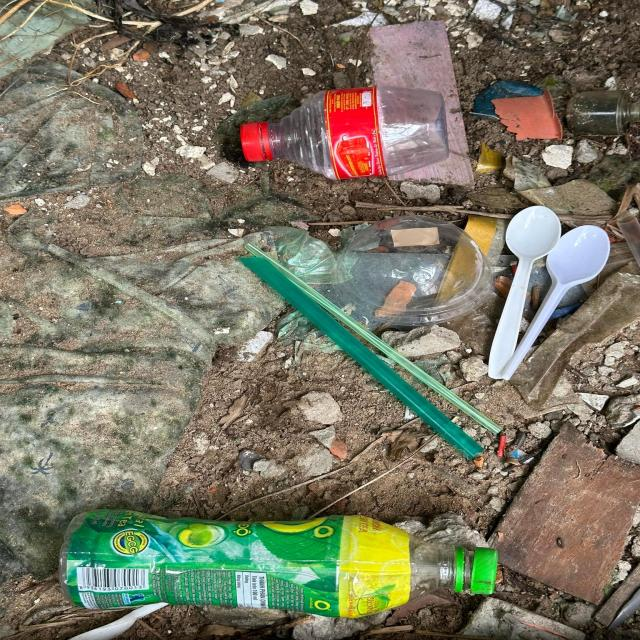bottle: (59, 509, 498, 621), (238, 85, 451, 180)
drinking straw: (244, 242, 504, 436), (238, 256, 484, 461)
lid: (334, 215, 496, 326)
plastic utensil: (502, 224, 612, 380), (487, 204, 563, 379)
